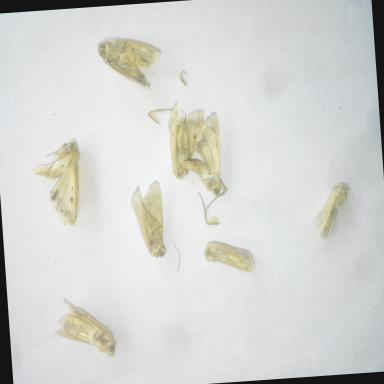abw: (28, 133, 87, 231), (48, 288, 119, 366), (94, 29, 166, 97), (162, 101, 212, 183), (126, 176, 170, 263), (308, 178, 356, 246), (198, 233, 258, 281)
